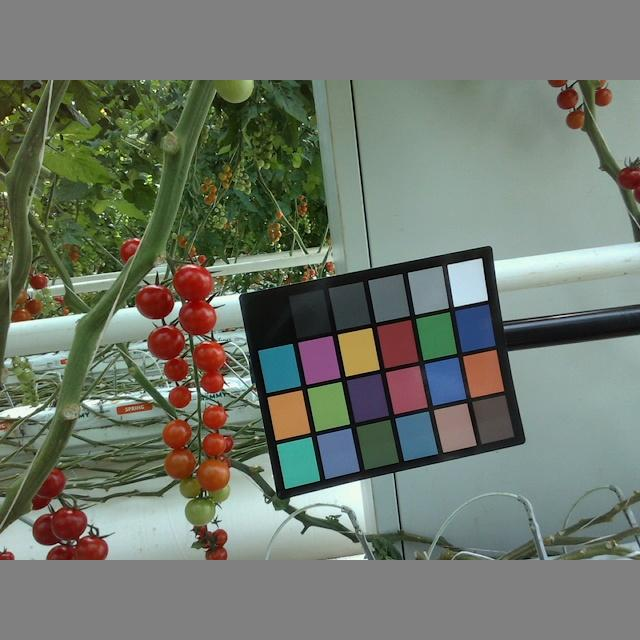green: (210, 79, 255, 103), (184, 499, 217, 527), (177, 475, 201, 500), (208, 485, 229, 502)
pink: (194, 458, 228, 494), (163, 449, 197, 481), (162, 419, 194, 453), (201, 404, 228, 430), (203, 431, 227, 459), (168, 385, 191, 408)
red: (172, 263, 214, 303), (177, 297, 218, 336), (146, 323, 186, 360), (135, 284, 176, 320), (51, 502, 86, 542), (32, 509, 66, 548), (194, 339, 228, 374), (120, 235, 151, 270), (73, 533, 109, 560), (35, 467, 66, 498), (163, 355, 189, 382), (199, 371, 226, 394), (46, 545, 76, 560)
